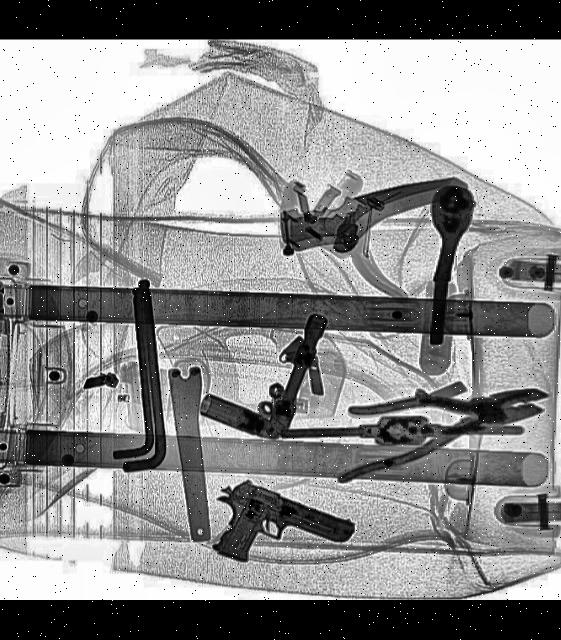Gun: (196, 475, 358, 598)
Pliers: (319, 356, 556, 486)
